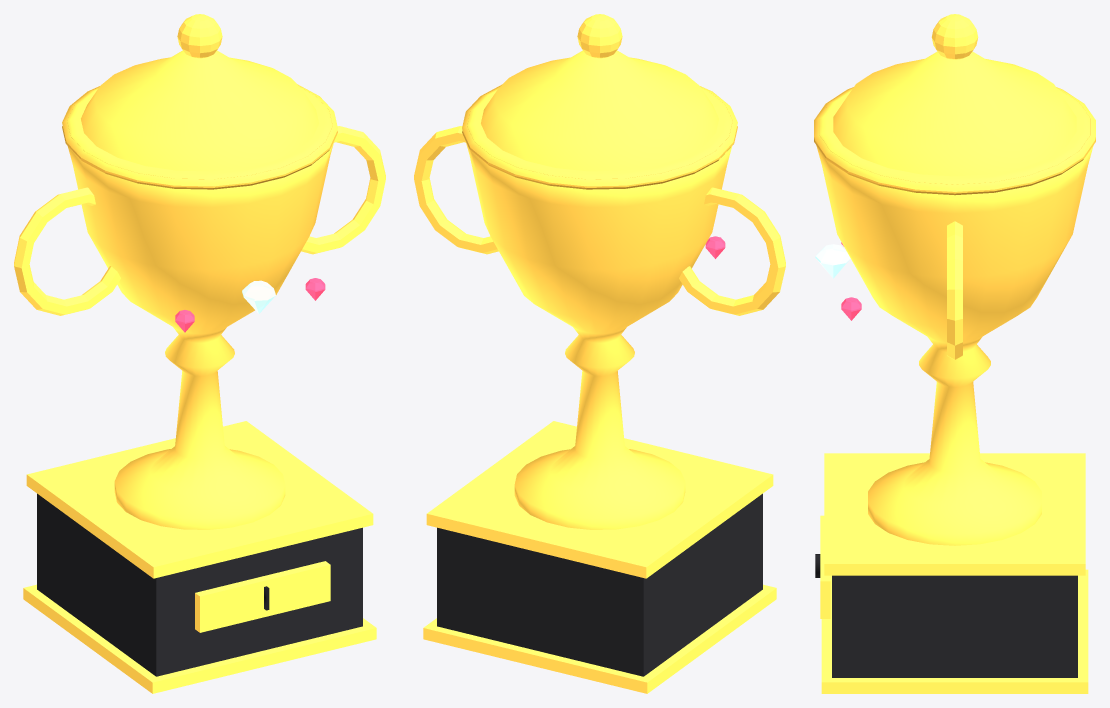
File: lux_champion_trophy.glb
The picture shows the model from 3 angles, left to right: view 1: azimuth 30°, elevation 25°; view 2: azimuth 150°, elevation 25°; view 3: azimuth 270°, elevation 25°; orthographic projection. The views are drawn at different scales.
Visible parts, largest first — view 1: lux_champion_trophy; view 2: lux_champion_trophy; view 3: lux_champion_trophy.
Boxes of the visible parts, box(x1,y1,x2,y2) form: lux_champion_trophy: box(14, 14, 385, 693); lux_champion_trophy: box(414, 14, 785, 693); lux_champion_trophy: box(814, 14, 1095, 693).
Bounding box in the file's own units: 1.71 × 2.65 × 1.09.
